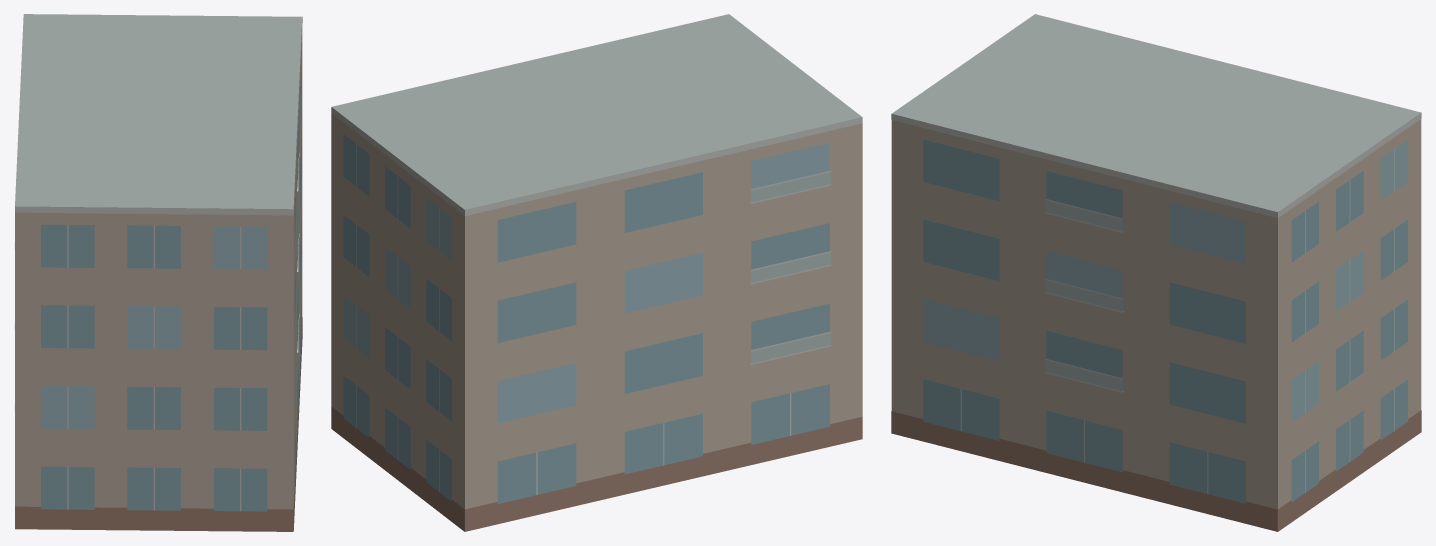
Rendered from survey-upis-32830371.glb.
3 renders of one model, left to right at view 1: azimuth 30°, elevation 25°; view 2: azimuth 150°, elevation 25°; view 3: azimuth 270°, elevation 25°, orthographic.
Parts seen in each view (by area): view 1: survey-upis-32830371.tmp; view 2: survey-upis-32830371.tmp; view 3: survey-upis-32830371.tmp.
Part boxes in pixels (x1,y1,x2,y2): survey-upis-32830371.tmp: (14,14,302,531); survey-upis-32830371.tmp: (331,14,862,531); survey-upis-32830371.tmp: (891,14,1421,531).
Size of the model in its own units: 16.89 by 12.7 by 19.09.
